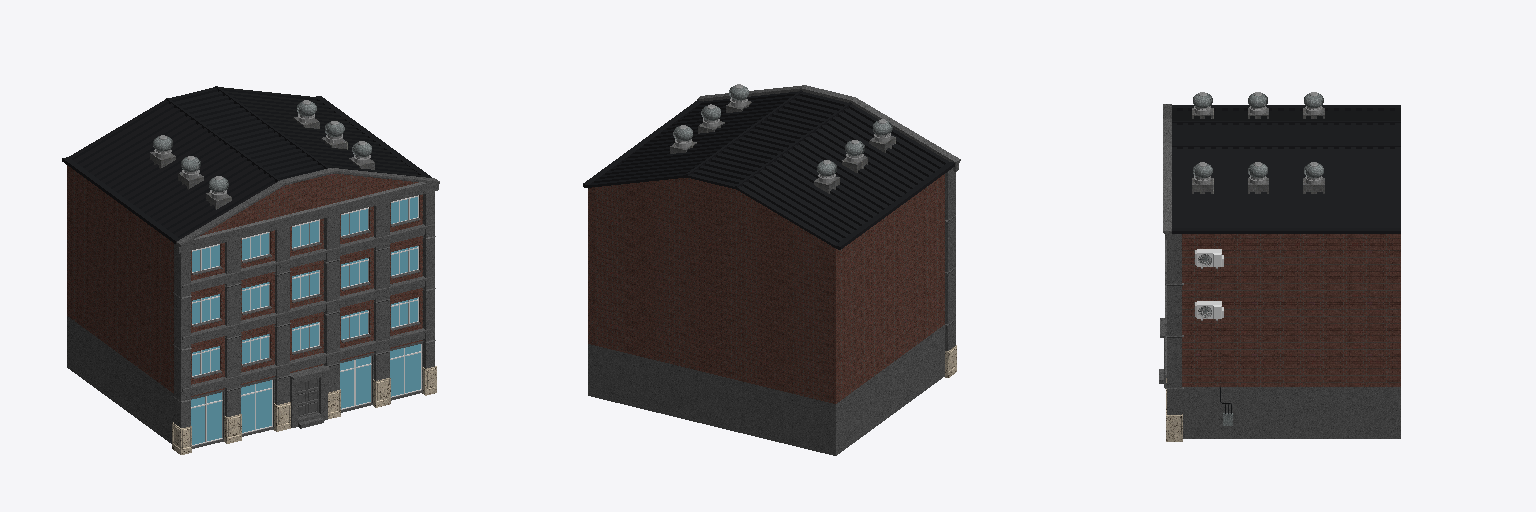
The picture shows the model from 3 angles: view 1: azimuth 30°, elevation 25°; view 2: azimuth 150°, elevation 25°; view 3: azimuth 270°, elevation 25°; orthographic projection.
Parts seen in each view (by area): view 1: Building_Small_DownTown7_Building_Small_DownTown7_Mesh; view 2: Building_Small_DownTown7_Building_Small_DownTown7_Mesh; view 3: Building_Small_DownTown7_Building_Small_DownTown7_Mesh.
Boxes of the visible parts, x1,y1,x2,y2 form: Building_Small_DownTown7_Building_Small_DownTown7_Mesh: [62, 86, 439, 454]; Building_Small_DownTown7_Building_Small_DownTown7_Mesh: [583, 84, 960, 455]; Building_Small_DownTown7_Building_Small_DownTown7_Mesh: [1159, 92, 1400, 441].
Bounding box in the file's own units: 16.19 × 14.5 × 12.65.
10 materials, 9 textured.